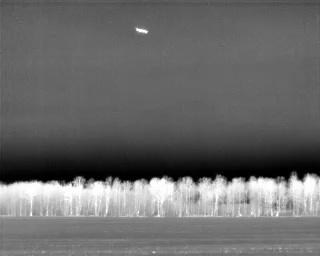DRONE: (132, 23, 151, 38)
